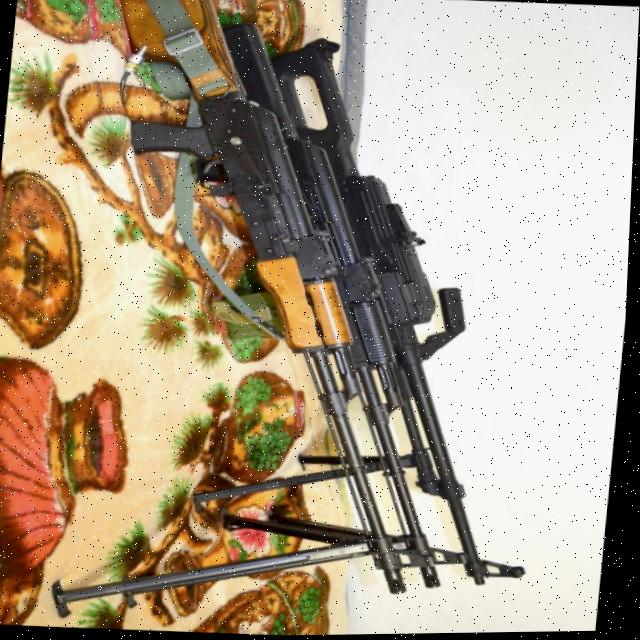firearm: (67, 0, 465, 603), (178, 21, 520, 592), (230, 38, 577, 593)
